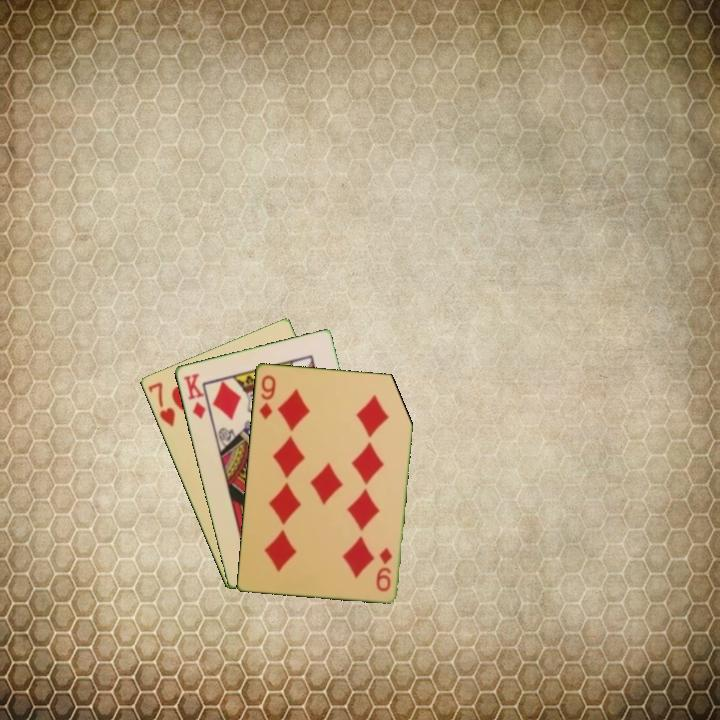7h: (144, 378, 178, 430)
9d: (255, 371, 278, 422), (372, 544, 395, 594)
Kd: (180, 369, 208, 422)
